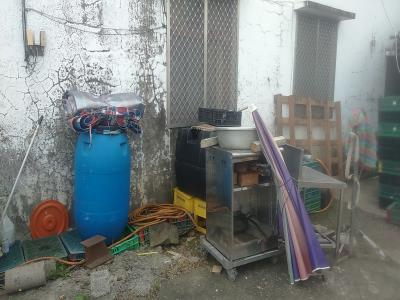bowl: (212, 126, 263, 150)
bucket: (72, 127, 132, 243)
plate: (28, 198, 71, 241)
